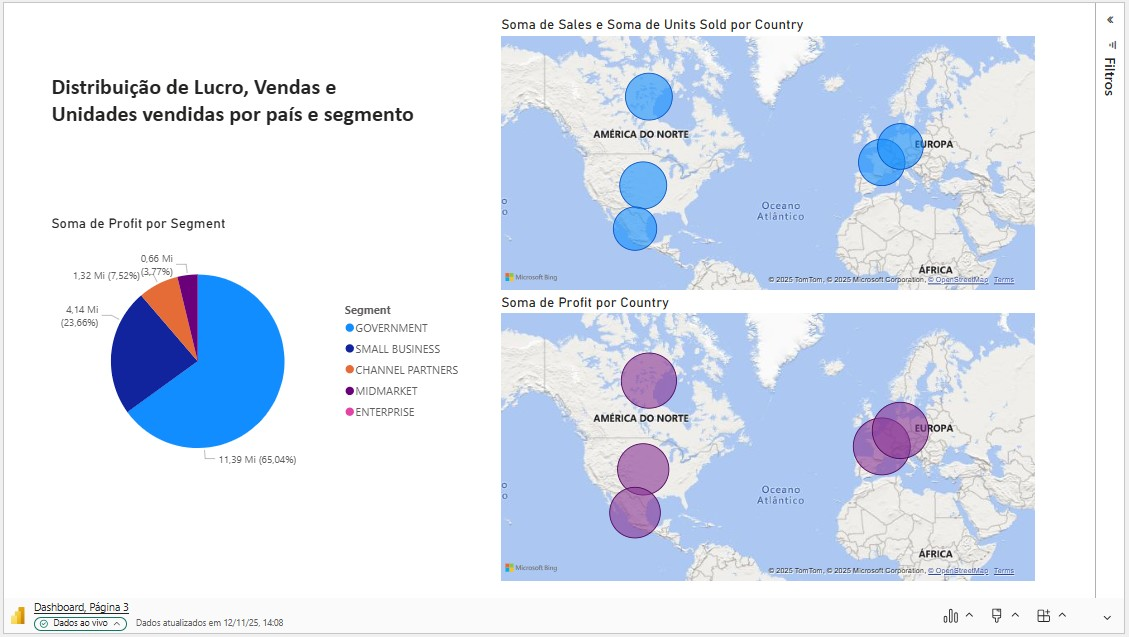

What the dashboard file says about the page in this screenshot:
{"tool":"powerbi","page":{"name":"Página 3","canvas":[1280,720],"ordinal":2},"visuals":[{"type":"textbox","box":[32,80,528,96],"z":0},{"type":"pieChart","title":"Lucro Total por Segmento","fields":{"Category":["financials.Segment"],"Y":["Sum(financials.Profit)"]},"box":[32,256,512,336],"z":1000},{"type":"map","title":"Total de Vendas por País","fields":{"Category":["financials.Country"],"Size":["Sum(financials.Sales)"]},"box":[576,16,656,336],"z":2000},{"type":"map","title":"Lucro Total por País","fields":{"Category":["financials.Country"],"Size":["Sum(financials.Profit)"]},"box":[576,352,656,352],"z":2001}]}

Visuals, with their boxes on the page's 1280x720 design canvas (x1, y1, x2, y2). These are canvas units, not pixel positions in the 1129x637 screenshot, which may show the page scaled, cropped or inside an application window:
textbox: (x1=32, y1=80, x2=560, y2=176)
"Lucro Total por Segmento" pieChart: (x1=32, y1=256, x2=544, y2=592)
"Total de Vendas por País" map: (x1=576, y1=16, x2=1232, y2=352)
"Lucro Total por País" map: (x1=576, y1=352, x2=1232, y2=704)
